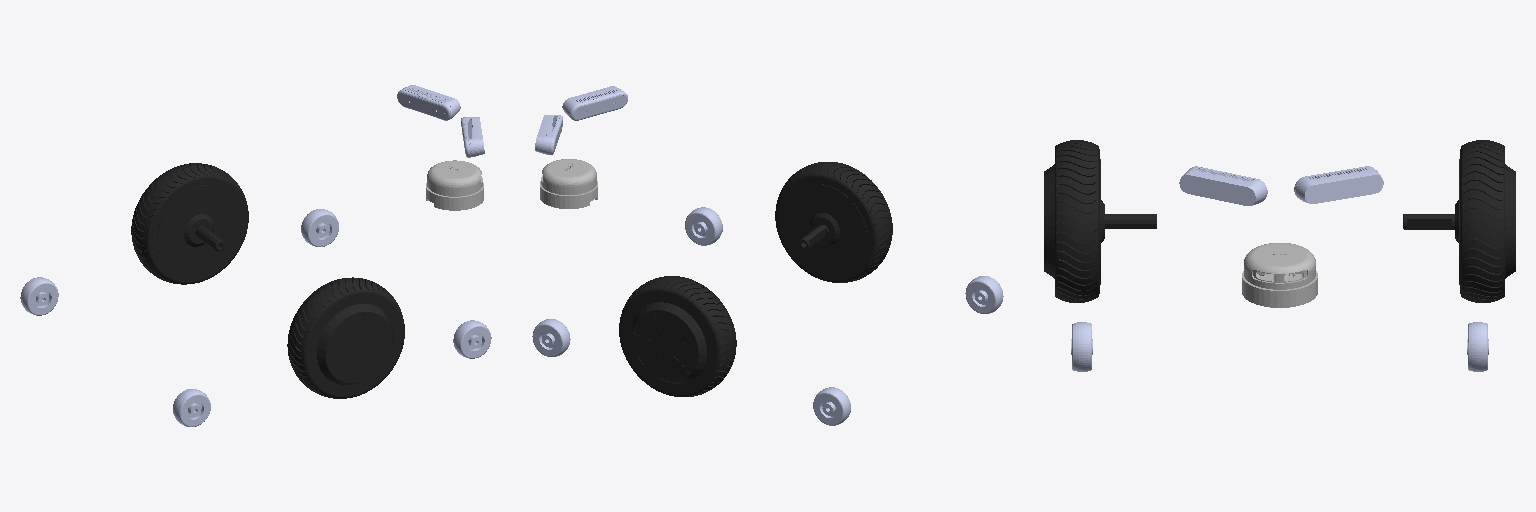
URDF robot description (indoor_delivery_botv2):
<?xml version="1.0" encoding="utf-8"?>
<robot
  name="indoor_delivery_botv2">

  <!-- base_link -->
  <link
    name="base_link">
    <inertial>
      <origin
        xyz="-0.00780661123444948 -7.31508946258119E-05 0.10836966300559"
        rpy="0 0 0" />
      <mass
        value="7.29555428414327" />
      <inertia
        ixx="0.125210411522138"
        ixy="-3.83427255194445E-05"
        ixz="-0.00165613454521059"
        iyy="0.167583029848759"
        iyz="9.35047372303265E-07"
        izz="0.280285157053257" />
    </inertial>
    <visual>
      <origin
        xyz="0 0 0"
        rpy="0 0 0" />
      <geometry>
        <mesh
          filename="package://indoor_delivery_botv2/meshes/base_link.STL" />
      </geometry>
      <material
        name="">
        <color
          rgba="0.827450980392157 0.83921568627451 0.827450980392157 1" />
      </material>
    </visual>
    <collision>
      <origin
        xyz="0 0 0"
        rpy="0 0 0" />
      <geometry>
        <mesh
          filename="package://indoor_delivery_botv2/meshes/base_link.STL" />
      </geometry>
    </collision>
  </link>

  <!-- lidar link and joint -->
  <link
    name="lidar_link">
    <inertial>
      <origin
        xyz="0.279194541394812 -1.49381448597552E-05 0.122298548059415"
        rpy="0 0 0" />
      <mass
        value="0.165382751635992" />
      <inertia
        ixx="7.88651836105336E-05"
        ixy="4.84717640920877E-08"
        ixz="2.18479443959794E-06"
        iyy="7.51902914938724E-05"
        iyz="2.88601572510436E-08"
        izz="0.000109946753058708" />
    </inertial>
    <visual>
      <origin
        xyz="-0.279194541394812 1.49381448597552E-05 -0.122298548059415"
        rpy="0 0 0" />
      <geometry>
        <mesh
          filename="package://indoor_delivery_botv2/meshes/lidar_link.STL" />
      </geometry>
      <material
        name="">
        <color
          rgba="0.752941176470588 0.752941176470588 0.752941176470588 0.4" />
      </material>
    </visual>
    <collision>
      <origin
        xyz="-0.279194541394812 1.49381448597552E-05 -0.122298548059415"
        rpy="0 0 0" />
      <geometry>
        <mesh
          filename="package://indoor_delivery_botv2/meshes/lidar_link.STL" />
      </geometry>
    </collision>
  </link>
  <joint
    name="lidar_link_joint"
    type="fixed">
    <origin
      xyz="0.279194541394812 -1.49381448597552E-05 0.122298548059415"
      rpy="0 0 0" />
    <parent
      link="base_link" />
    <child
      link="lidar_link" />
    <axis
      xyz="1 0 0" />
  </joint>

  <!-- real_sense_left link and joint -->
  <link
    name="rs_left">
    <inertial>
      <origin
        xyz="0.274555027589029 0.0594512444419123 0.217391938332195"
        rpy="0 0 0" />
      <mass
        value="0.0447521571009435" />
      <inertia
        ixx="2.39114045668301E-05"
        ixy="8.20326286217048E-06"
        ixz="-1.82111380306059E-08"
        iyy="7.31204727336871E-06"
        iyz="1.80836025822923E-08"
        izz="2.73608190095255E-05" />
    </inertial>
    <visual>
      <origin
        xyz="-0.274555027589029 -0.0594512444419123 -0.217391938332195"
        rpy="0 0 0" />
      <geometry>
        <mesh
          filename="package://indoor_delivery_botv2/meshes/rs_left.STL" />
      </geometry>
      <material
        name="">
        <color
          rgba="0.792156862745098 0.819607843137255 0.933333333333333 1" />
      </material>
    </visual>
    <collision>
      <origin
        xyz="-0.274555027589029 -0.0594512444419123 -0.217391938332195"
        rpy="0 0 0" />
      <geometry>
        <mesh
          filename="package://indoor_delivery_botv2/meshes/rs_left.STL" />
      </geometry>
    </collision>
  </link>
  <joint
    name="rs_left_joint"
    type="fixed">
    <origin
      xyz="0.274555027589029 0.0594512444419123 0.217391938332195"
      rpy="0 0 0" />
    <parent
      link="base_link" />
    <child
      link="rs_left" />
    <axis
      xyz="0 0 0" />
  </joint>

  <!-- real_sense_right link and joint -->
  <link
    name="rs_right">
    <inertial>
      <origin
        xyz="0.273134158939021 -0.0563363041663852 0.215391956342575"
        rpy="0 0 0" />
      <mass
        value="0.0447522720440084" />
      <inertia
        ixx="2.28893414689802E-05"
        ixy="-9.12224588442263E-06"
        ixz="1.2674636414842E-09"
        iyy="8.33417328604517E-06"
        iyz="2.56207062416853E-08"
        izz="2.73608662757534E-05" />
    </inertial>
    <visual>
      <origin
        xyz="-0.273134158939021 0.0563363041663852 -0.215391956342575"
        rpy="0 0 0" />
      <geometry>
        <mesh
          filename="package://indoor_delivery_botv2/meshes/rs_right.STL" />
      </geometry>
      <material
        name="">
        <color
          rgba="0.792156862745098 0.819607843137255 0.933333333333333 1" />
      </material>
    </visual>
    <collision>
      <origin
        xyz="-0.273134158939021 0.0563363041663852 -0.215391956342575"
        rpy="0 0 0" />
      <geometry>
        <mesh
          filename="package://indoor_delivery_botv2/meshes/rs_right.STL" />
      </geometry>
    </collision>
  </link>
  <joint
    name="rs_right_joint"
    type="fixed">
    <origin
      xyz="0.273134158939021 -0.0563363041663852 0.215391956342575"
      rpy="0 0 0" />
    <parent
      link="base_link" />
    <child
      link="rs_right" />
    <axis
      xyz="0 0 0" />
  </joint>

  <!-- caster_front_left link and joint -->
  <link
    name="caster_fl">
    <inertial>
      <origin
        xyz="0.191862541507397 0.197610528427432 0.00130276285386216"
        rpy="0 0 0" />
      <mass
        value="0.0334173711421252" />
      <inertia
        ixx="6.33984500469436E-06"
        ixy="3.76037439293872E-08"
        ixz="-6.40304873706217E-22"
        iyy="1.06390050747607E-05"
        iyz="-2.92534718662965E-22"
        izz="6.33951611873327E-06" />
    </inertial>
    <visual>
      <origin
        xyz="-0.191862541507397 -0.197610528427432 -0.00130276285386216"
        rpy="0 0 0" />
      <geometry>
        <mesh
          filename="package://indoor_delivery_botv2/meshes/caster_fl.STL" />
      </geometry>
      <material
        name="">
        <color
          rgba="0.792156862745098 0.819607843137255 0.933333333333333 1" />
      </material>
    </visual>
    <collision>
      <origin
        xyz="-0.191862541507397 -0.197610528427432 -0.00130276285386216"
        rpy="0 0 0" />
      <geometry>
        <mesh
          filename="package://indoor_delivery_botv2/meshes/caster_fl.STL" />
      </geometry>
    </collision>
  </link>
  <joint
    name="caster_fl_joint"
    type="continuous">
    <origin
      xyz="0.191862541507397 0.197610528427432 0.00130276285386216"
      rpy="0 0 0" />
    <parent
      link="base_link" />
    <child
      link="caster_fl" />
    <axis
      xyz="0 1 0" />
  </joint>

  <!-- caster_front_right link and joint -->
  <link
    name="caster_fr">
    <inertial>
      <origin
        xyz="0.191862541507396 -0.197389471572568 0.0013027628538621"
        rpy="0 0 0" />
      <mass
        value="0.0334173711421252" />
      <inertia
        ixx="6.33984500469437E-06"
        ixy="3.76037439293871E-08"
        ixz="-5.7474846017805E-22"
        iyy="1.06390050747608E-05"
        iyz="-2.90217181917764E-22"
        izz="6.33951611873328E-06" />
    </inertial>
    <visual>
      <origin
        xyz="-0.191862541507396 0.197389471572568 -0.0013027628538621"
        rpy="0 0 0" />
      <geometry>
        <mesh
          filename="package://indoor_delivery_botv2/meshes/caster_fr.STL" />
      </geometry>
      <material
        name="">
        <color
          rgba="0.792156862745098 0.819607843137255 0.933333333333333 1" />
      </material>
    </visual>
    <collision>
      <origin
        xyz="-0.191862541507396 0.197389471572568 -0.0013027628538621"
        rpy="0 0 0" />
      <geometry>
        <mesh
          filename="package://indoor_delivery_botv2/meshes/caster_fr.STL" />
      </geometry>
    </collision>
  </link>
  <joint
    name="caster_fr_joint"
    type="continuous">
    <origin
      xyz="0.191862541507396 -0.197389471572568 0.0013027628538621"
      rpy="0 0 0" />
    <parent
      link="base_link" />
    <child
      link="caster_fr" />
    <axis
      xyz="0 1 0" />
  </joint>

<!-- caster_rear_right link and joint -->
  <link
    name="caster_rr">
    <inertial>
      <origin
        xyz="-0.228137458492605 -0.197389471572567 0.00130276285386094"
        rpy="0 0 0" />
      <mass
        value="0.0334173711421253" />
      <inertia
        ixx="6.33984500469439E-06"
        ixy="3.76037439293856E-08"
        ixz="-3.93390012977437E-22"
        iyy="1.06390050747608E-05"
        iyz="5.27758670867211E-23"
        izz="6.33951611873329E-06" />
    </inertial>
    <visual>
      <origin
        xyz="0.228137458492605 0.197389471572567 -0.00130276285386094"
        rpy="0 0 0" />
      <geometry>
        <mesh
          filename="package://indoor_delivery_botv2/meshes/caster_rr.STL" />
      </geometry>
      <material
        name="">
        <color
          rgba="0.792156862745098 0.819607843137255 0.933333333333333 1" />
      </material>
    </visual>
    <collision>
      <origin
        xyz="0.228137458492605 0.197389471572567 -0.00130276285386094"
        rpy="0 0 0" />
      <geometry>
        <mesh
          filename="package://indoor_delivery_botv2/meshes/caster_rr.STL" />
      </geometry>
    </collision>
  </link>
  <joint
    name="caster_rr_joint"
    type="continuous">
    <origin
      xyz="-0.228137458492605 -0.197389471572567 0.00130276285386094"
      rpy="0 0 0" />
    <parent
      link="base_link" />
    <child
      link="caster_rr" />
    <axis
      xyz="0 1 0" />
  </joint>

  <!-- caster_rear_left link and joint -->
  <link
    name="caster_rl">
    <inertial>
      <origin
        xyz="-0.228137458492603 0.197610528427433 0.00130276285386072"
        rpy="0 0 0" />
      <mass
        value="0.0334173711421252" />
      <inertia
        ixx="6.33984500469436E-06"
        ixy="3.76037439293854E-08"
        ixz="-4.09191144021621E-22"
        iyy="1.06390050747607E-05"
        iyz="3.07538745319858E-22"
        izz="6.33951611873327E-06" />
    </inertial>
    <visual>
      <origin
        xyz="0.228137458492603 -0.197610528427433 -0.00130276285386072"
        rpy="0 0 0" />
      <geometry>
        <mesh
          filename="package://indoor_delivery_botv2/meshes/caster_rl.STL" />
      </geometry>
      <material
        name="">
        <color
          rgba="0.792156862745098 0.819607843137255 0.933333333333333 1" />
      </material>
    </visual>
    <collision>
      <origin
        xyz="0.228137458492603 -0.197610528427433 -0.00130276285386072"
        rpy="0 0 0" />
      <geometry>
        <mesh
          filename="package://indoor_delivery_botv2/meshes/caster_rl.STL" />
      </geometry>
    </collision>
  </link>
  <joint
    name="caster_rl_joint"
    type="continuous">
    <origin
      xyz="-0.228137458492603 0.197610528427433 0.00130276285386072"
      rpy="0 0 0" />
    <parent
      link="base_link" />
    <child
      link="caster_rl" />
    <axis
      xyz="0 1 0" />
  </joint>

  <!-- drive_wheel_left_link and joint -->
  <link
    name="drive_wheel_left">
    <inertial>
      <origin
        xyz="-7.34417430403589E-06 0.204110516837841 0.0500007440772356"
        rpy="0 0 0" />
      <mass
        value="0.989823090734287" />
      <inertia
        ixx="0.00167927609411678"
        ixy="-3.96993088092875E-07"
        ixz="1.37275681706091E-08"
        iyy="0.00288690083815091"
        iyz="4.02214745015368E-08"
        izz="0.00167922468849555" />
    </inertial>
    <visual>
      <origin
        xyz="7.34417430403589E-06 -0.204110516837841 -0.0500007440772356"
        rpy="0 0 0" />
      <geometry>
        <mesh
          filename="package://indoor_delivery_botv2/meshes/drive_wheel_left.STL" />
      </geometry>
      <material
        name="">
        <color
          rgba="0.2 0.2 0.2 1" />
      </material>
    </visual>
    <collision>
      <origin
        xyz="7.34417430403589E-06 -0.204110516837841 -0.0500007440772356"
        rpy="0 0 0" />
      <geometry>
        <mesh
          filename="package://indoor_delivery_botv2/meshes/drive_wheel_left.STL" />
      </geometry>
    </collision>
  </link>
  <joint
    name="drive_wheel_left_joint"
    type="continuous">
    <origin
      xyz="-7.34417430403589E-06 0.204110516837841 0.0500007440772356"
      rpy="0 0 0" />
    <parent
      link="base_link" />
    <child
      link="drive_wheel_left" />
    <axis
      xyz="0 1 0" />
  </joint>

  <!-- drive_wheel_right_link and joint -->
  <link
    name="drive_wheel_right">
    <inertial>
      <origin
        xyz="7.34417430392487E-06 -0.204110516837841 0.0500007440772355"
        rpy="0 0 0" />
      <mass
        value="0.989823090734286" />
      <inertia
        ixx="0.00167927609411676"
        ixy="-3.96993088093067E-07"
        ixz="-1.3727568175685E-08"
        iyy="0.00288690083815089"
        iyz="-4.02214744999068E-08"
        izz="0.00167922468849555" />
    </inertial>
    <visual>
      <origin
        xyz="-7.34417430392487E-06 0.204110516837841 -0.0500007440772355"
        rpy="0 0 0" />
      <geometry>
        <mesh
          filename="package://indoor_delivery_botv2/meshes/drive_wheel_right.STL" />
      </geometry>
      <material
        name="">
        <color
          rgba="0.2 0.2 0.2 1" />
      </material>
    </visual>
    <collision>
      <origin
        xyz="-7.34417430392487E-06 0.204110516837841 -0.0500007440772355"
        rpy="0 0 0" />
      <geometry>
        <mesh
          filename="package://indoor_delivery_botv2/meshes/drive_wheel_right.STL" />
      </geometry>
    </collision>
  </link>
  <joint
    name="drive_wheel_right_joint"
    type="continuous">
    <origin
      xyz="7.34417430392487E-06 -0.204110516837841 0.0500007440772355"
      rpy="0 0 0" />
    <parent
      link="base_link" />
    <child
      link="drive_wheel_right" />
    <axis
      xyz="0 1 0" />
  </joint>
</robot>

--- Render facts (derived) ---
3 views of the same robot in one strip: view 1: azimuth 30°, elevation 25°; view 2: azimuth 150°, elevation 25°; view 3: azimuth 270°, elevation 25° (orthographic).
Robot: indoor_delivery_botv2 — 10 links, 9 joints (6 continuous, 3 fixed); root link base_link; default pose: all joints at 0.
Links seen in each view (by area): view 1: drive_wheel_left, drive_wheel_right, lidar_link, rs_left, caster_rl, caster_fr, caster_rr, caster_fl, rs_right; view 2: drive_wheel_left, drive_wheel_right, lidar_link, rs_right, caster_rl, caster_fr, caster_fl, caster_rr, rs_left; view 3: drive_wheel_left, drive_wheel_right, lidar_link, rs_left, rs_right, caster_fl, caster_fr.
Boxes of the visible links, bbox=[...] form: drive_wheel_left: bbox=[131, 163, 248, 284]; drive_wheel_right: bbox=[287, 277, 404, 398]; lidar_link: bbox=[426, 160, 483, 210]; rs_left: bbox=[397, 85, 460, 120]; caster_rl: bbox=[20, 277, 58, 315]; caster_fr: bbox=[453, 320, 491, 358]; caster_rr: bbox=[173, 389, 210, 426]; caster_fl: bbox=[301, 209, 338, 246]; rs_right: bbox=[461, 117, 484, 157]; drive_wheel_left: bbox=[619, 276, 736, 396]; drive_wheel_right: bbox=[775, 162, 892, 282]; lidar_link: bbox=[540, 159, 597, 208]; rs_right: bbox=[562, 86, 627, 120]; caster_rl: bbox=[813, 387, 850, 425]; caster_fr: bbox=[685, 207, 722, 245]; caster_fl: bbox=[532, 319, 570, 356]; caster_rr: bbox=[965, 276, 1003, 313]; rs_left: bbox=[535, 115, 562, 154]; drive_wheel_left: bbox=[1403, 140, 1515, 302]; drive_wheel_right: bbox=[1044, 140, 1156, 302]; lidar_link: bbox=[1242, 243, 1317, 307]; rs_left: bbox=[1294, 166, 1383, 203]; rs_right: bbox=[1179, 166, 1267, 205]; caster_fl: bbox=[1467, 322, 1488, 371]; caster_fr: bbox=[1071, 322, 1092, 371].
Bounding box of the posed robot: 0.5709 × 0.47 × 0.2609 m (x, y, z).
9 mesh visuals loaded from 10 distinct referenced files (9 binary STL); not drawn: 1 (reference not matched to a file when rendering).